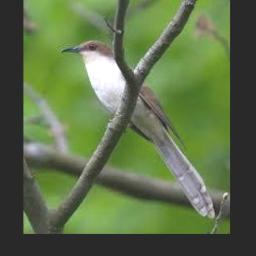Cuckoo: (61, 41, 216, 218)
